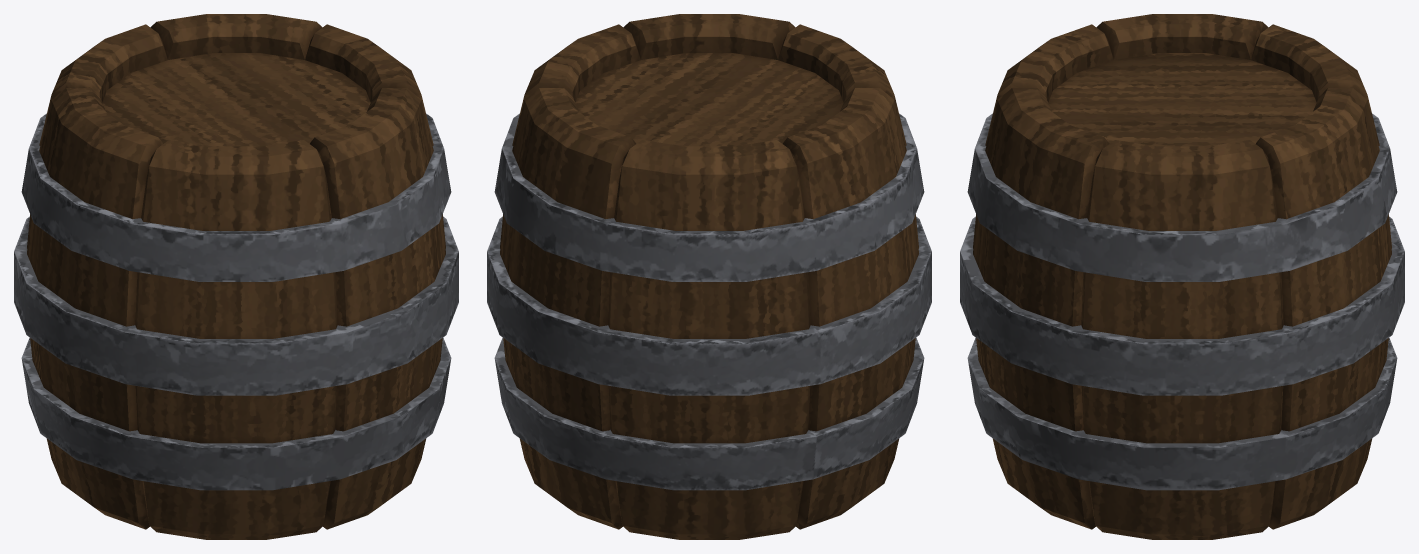
The model's file is Barrel_Destructible.fbx.
The picture shows the model from 3 angles, left to right: view 1: azimuth 30°, elevation 25°; view 2: azimuth 150°, elevation 25°; view 3: azimuth 270°, elevation 25°; orthographic projection.
Visible parts, largest first — view 1: BarrilDestruible; view 2: BarrilDestruible; view 3: BarrilDestruible.
Boxes of the visible parts, x1=… form: BarrilDestruible: x1=14, y1=14, x2=458, y2=539; BarrilDestruible: x1=487, y1=14, x2=931, y2=539; BarrilDestruible: x1=960, y1=14, x2=1404, y2=539.
Size of the model in its own units: 208 by 200 by 210.
